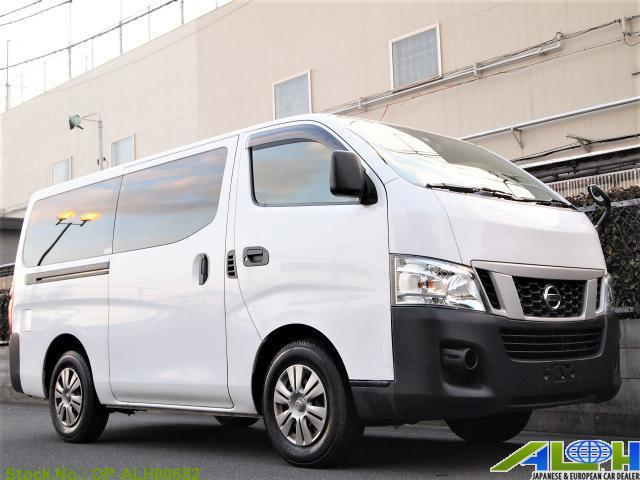van: (13, 113, 620, 438)
